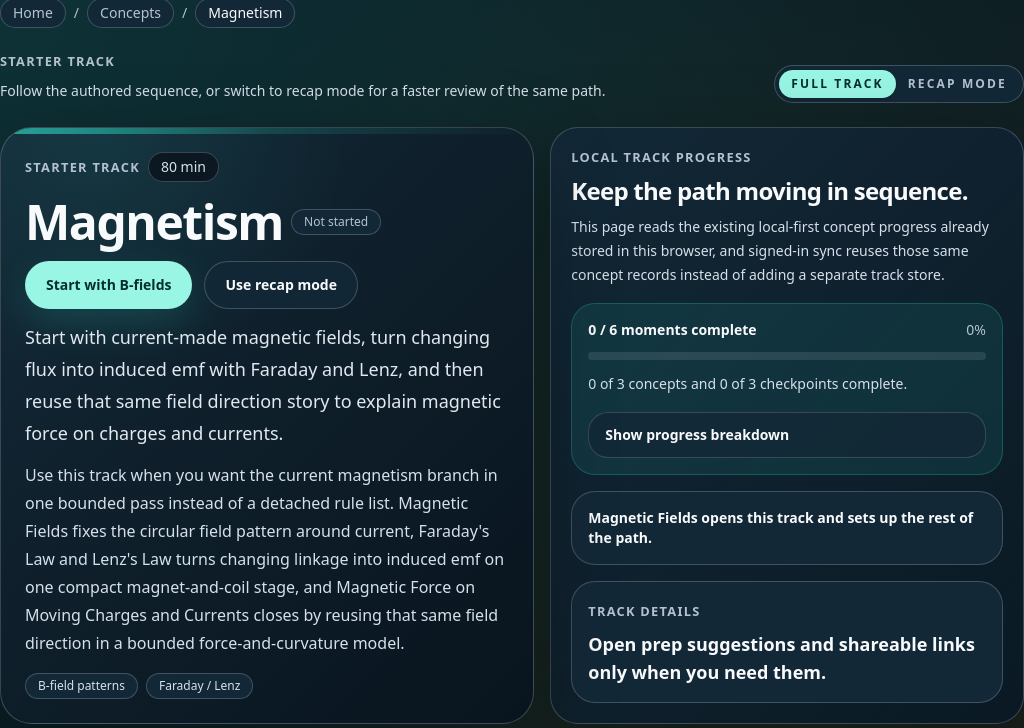
Scenario: StarterTrackDetailPage › shows authored prerequisite guidance on advanced tracks
The width and height of the screenshot is (1024, 728).
Click the text "Track details".
click(644, 611)  # box [588,602,700,620]
(page scrolled)
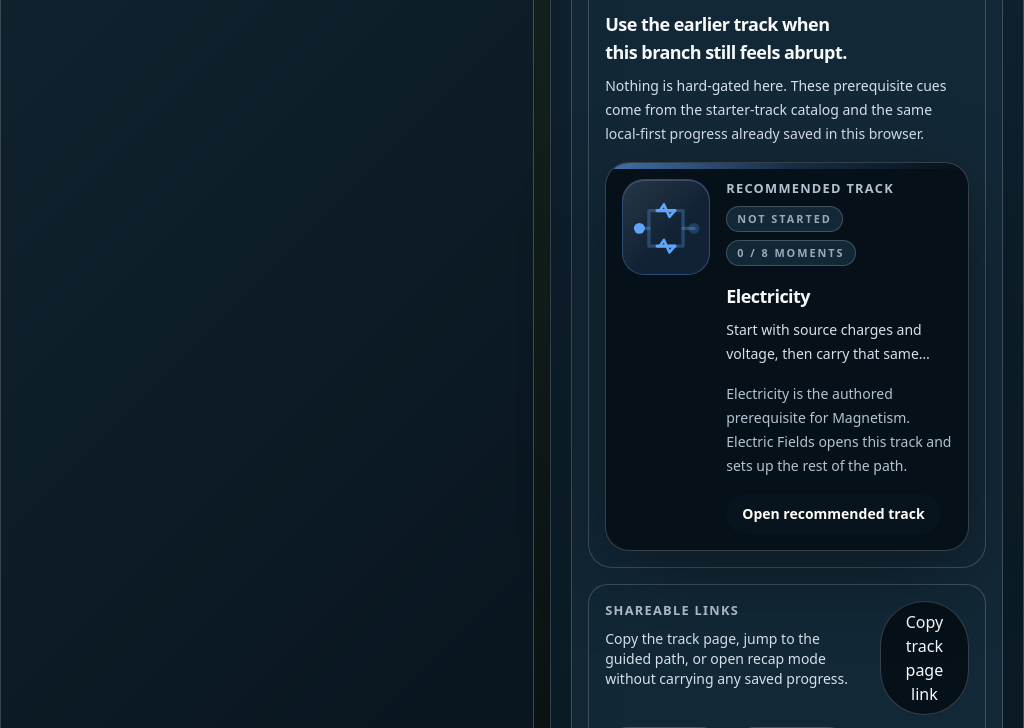
expect the text "Electricity is the authored prerequisite for Magnetism" is shown: met, box [726,384,951,475]
